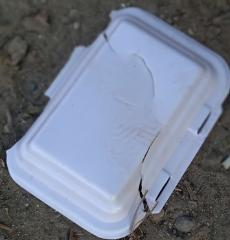general: (4, 6, 229, 239)
